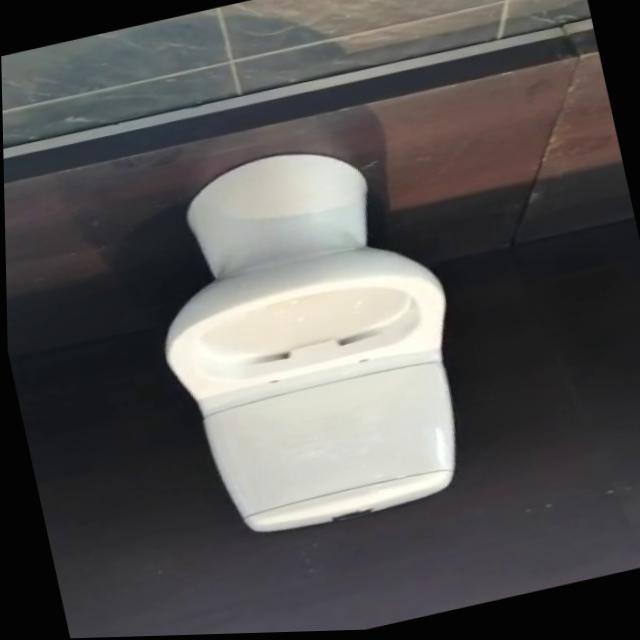toilet: (127, 126, 488, 555)
